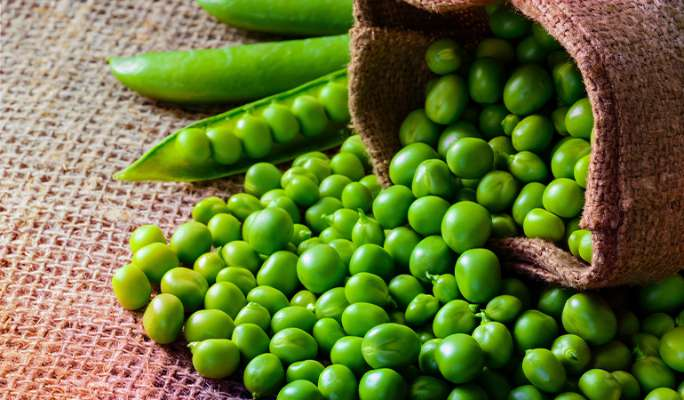boiled peas: (209, 209, 485, 375)
